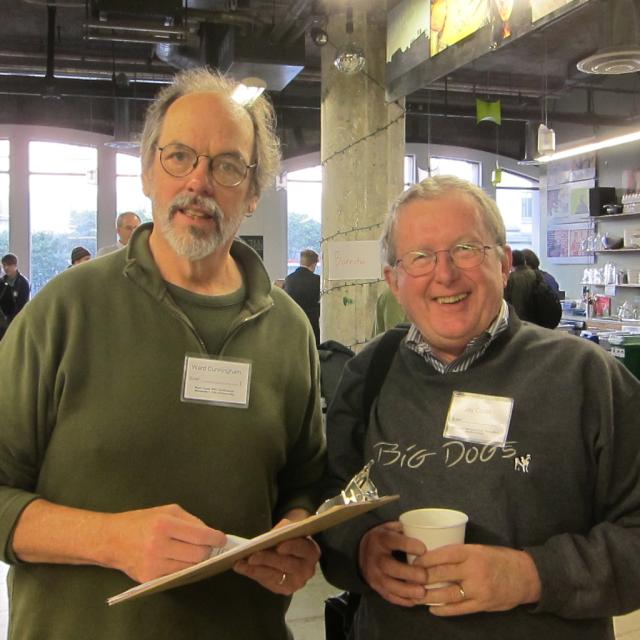no_helmet: (110, 61, 296, 280), (366, 163, 552, 352)
